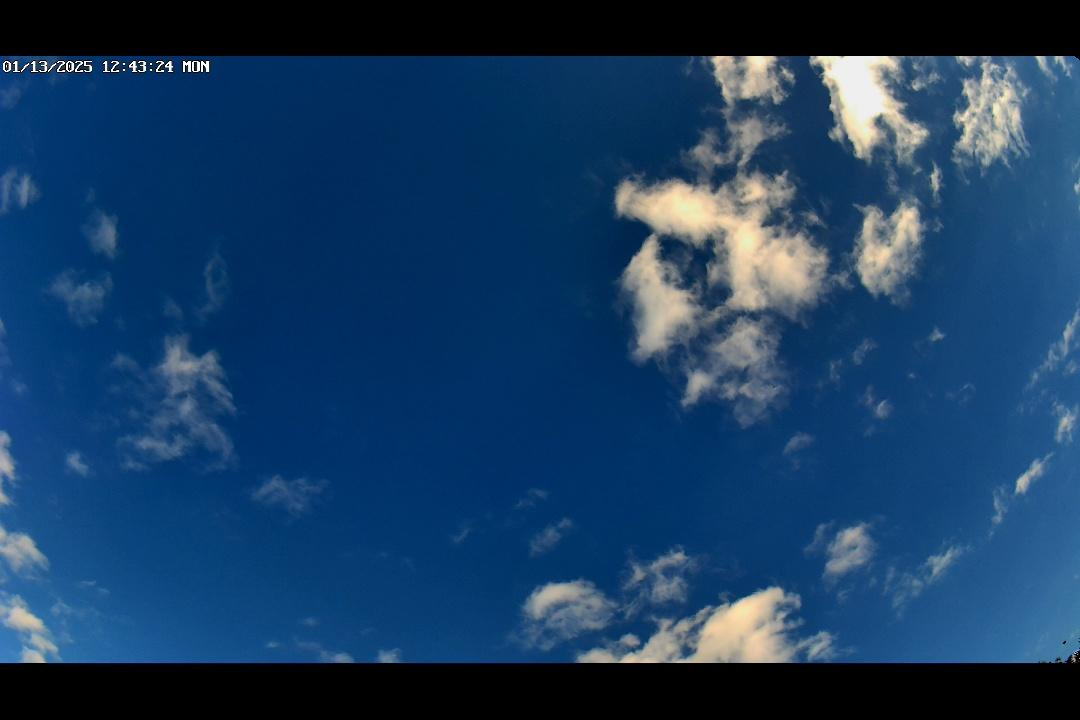WildLife: (1054, 638, 1075, 649)
